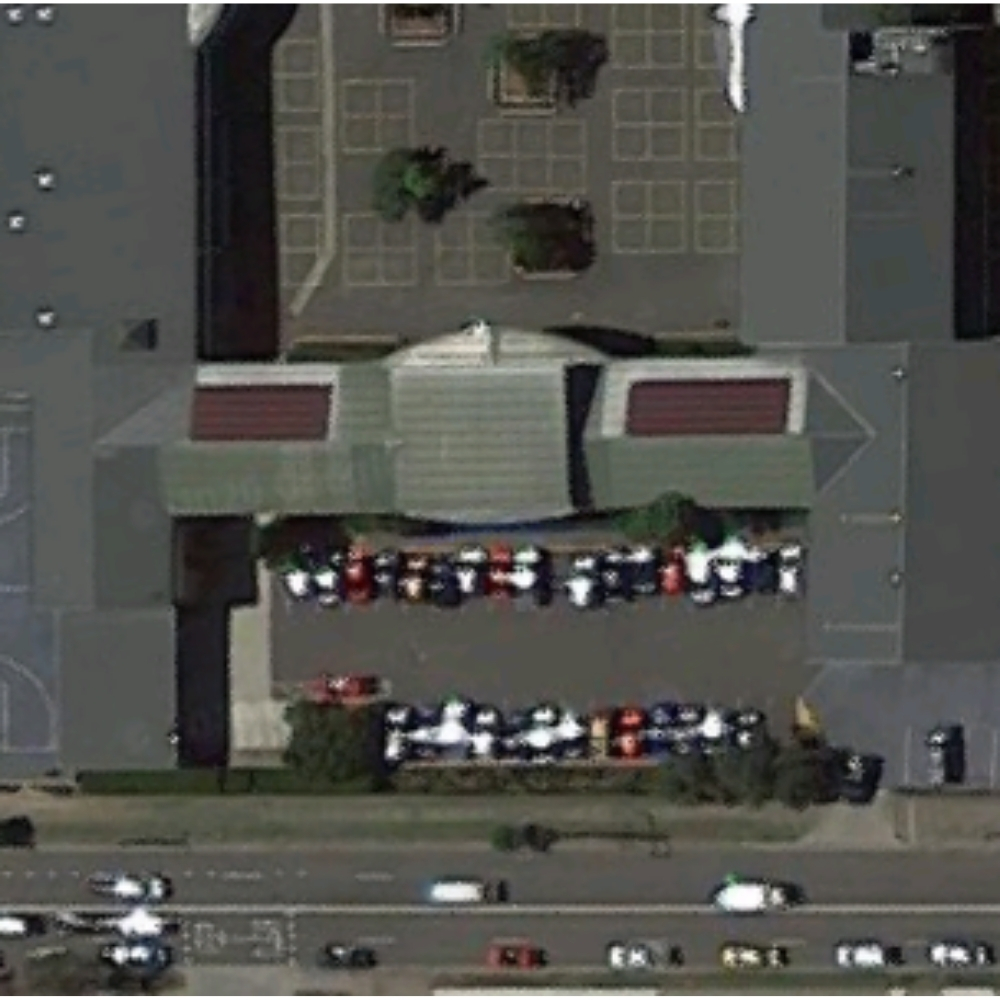parking: (276, 520, 805, 745)
